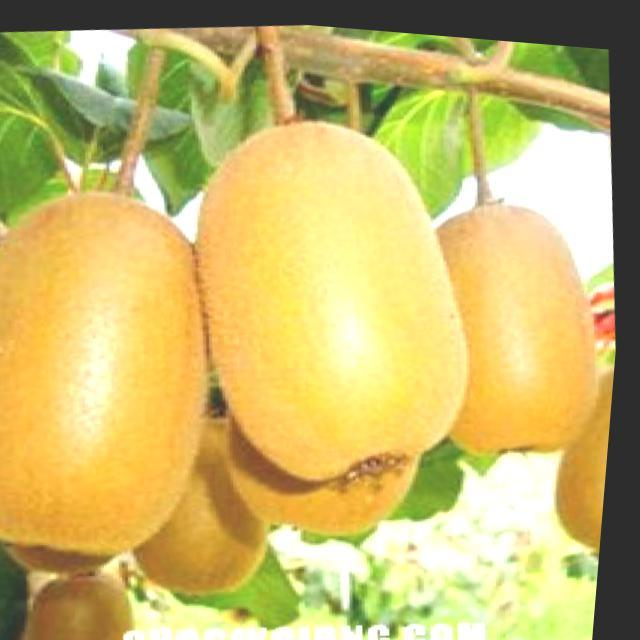kiwi: (171, 91, 500, 495), (1, 171, 239, 577), (205, 252, 446, 546), (421, 181, 618, 457), (126, 393, 285, 598), (541, 350, 620, 557), (26, 559, 150, 640)
